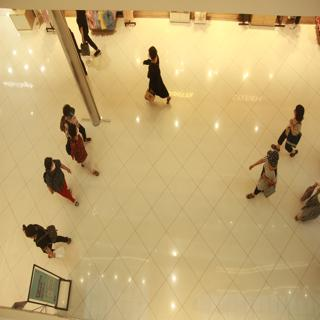person: (140, 41, 179, 114), (19, 214, 82, 257), (40, 149, 82, 208), (64, 121, 102, 182), (250, 142, 283, 204), (284, 92, 307, 150), (58, 99, 90, 137)
